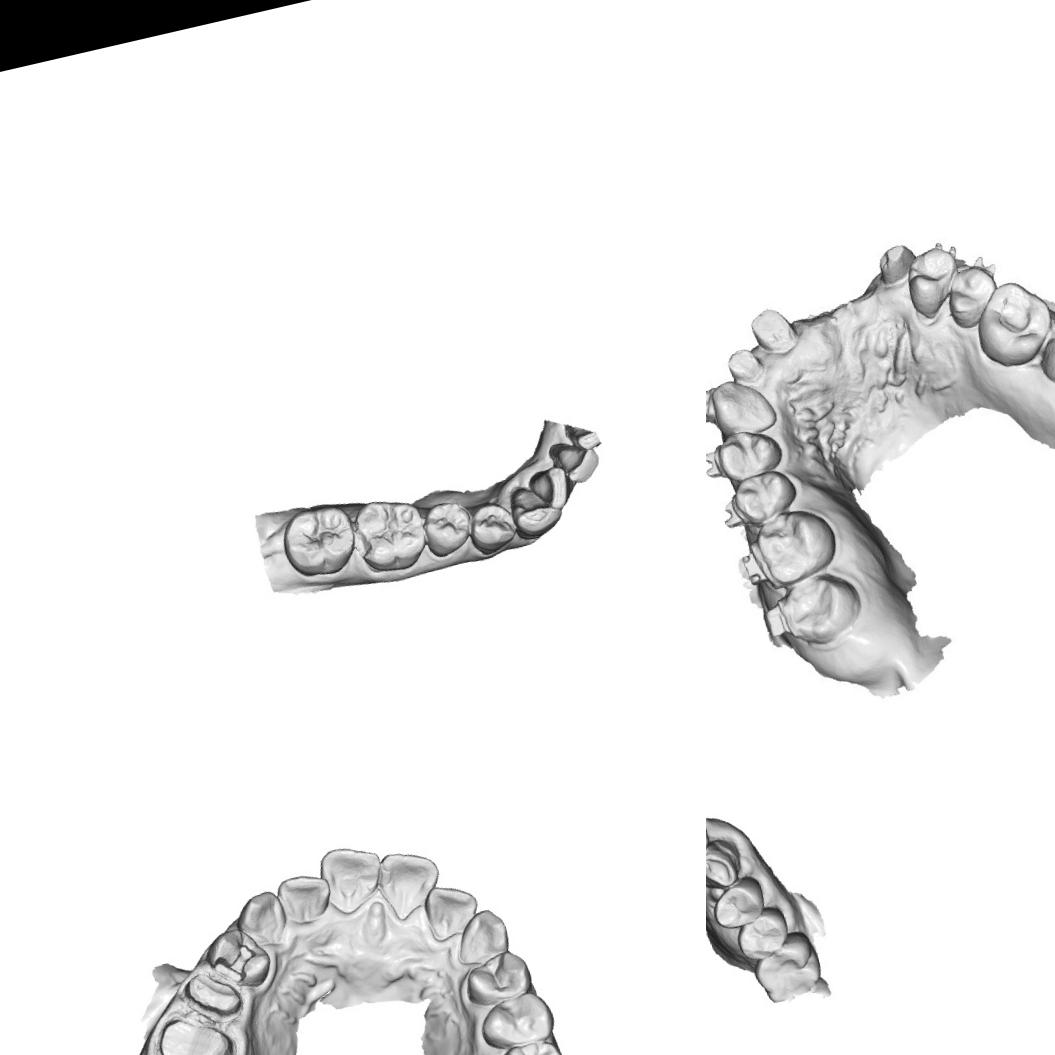canine: (448, 906, 514, 970), (230, 887, 292, 953), (505, 478, 567, 542), (706, 834, 747, 893)
crown: (146, 1002, 245, 1055), (176, 963, 247, 1031), (750, 302, 801, 361), (723, 343, 768, 385), (876, 240, 920, 278)
incisor: (372, 842, 448, 924), (314, 839, 390, 918), (418, 876, 486, 946), (273, 868, 337, 928), (710, 378, 773, 436), (546, 434, 604, 496), (526, 464, 574, 514)
inlay: (208, 940, 263, 991)
molar: (348, 489, 433, 580), (275, 498, 363, 584), (755, 504, 839, 582), (746, 927, 827, 1007), (776, 569, 862, 644), (977, 277, 1053, 360), (476, 1034, 577, 1055), (1039, 302, 1055, 385)
premolar: (898, 236, 969, 320), (474, 986, 559, 1055), (938, 254, 1006, 331), (458, 945, 536, 1010), (715, 424, 781, 486), (418, 494, 479, 560), (730, 902, 794, 964), (733, 466, 800, 524), (706, 872, 770, 932), (464, 496, 522, 558)
